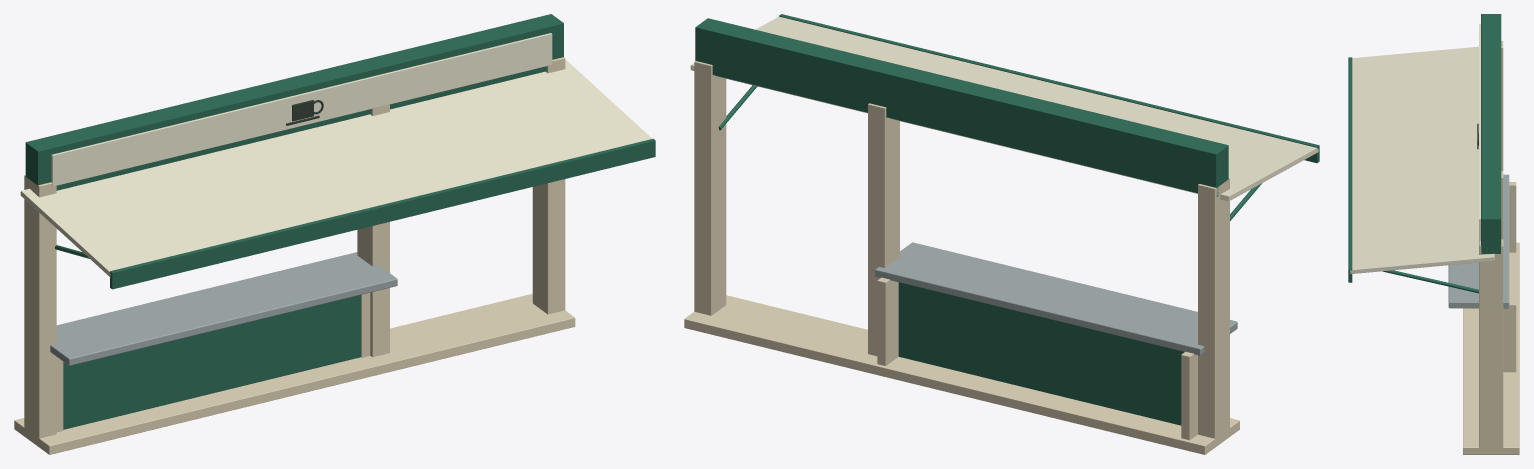
Rendered from hdb-coffee-shop-frontage.glb.
3 renders of one model, left to right at view 1: azimuth 30°, elevation 25°; view 2: azimuth 150°, elevation 25°; view 3: azimuth 270°, elevation 25°, orthographic. The views are drawn at different scales.
Visible parts, largest first — view 1: AWNING_Editable, COUNTER_Front, FASCIA_ReplaceableFace, FLOOR_Sill, COUNTER_Top, FASCIA_Support, AWNING_Valance, PIER_-2.9, PIER_2.9, PIER_0.9, COUNTER_Side_0.75; view 2: FASCIA_Support, COUNTER_Front, FLOOR_Sill, COUNTER_Top, AWNING_Editable, PIER_2.9, PIER_-2.9, PIER_0.9, AWNING_Valance, COUNTER_Side_0.75, COUNTER_Side_-2.75; view 3: AWNING_Editable, FASCIA_Support, PIER_2.9, FLOOR_Sill, COUNTER_Top, AWNING_Valance, COUNTER_Side_0.75, COUNTER_Side_-2.75, FASCIA_ReplaceableFace, AWNING_Bracket_2.8, PIER_-2.9, PIER_0.9.
Boxes of the visible parts, left/top/right/bottom form: AWNING_Editable: left=20, top=59, right=652, bottom=277; COUNTER_Front: left=63, top=295, right=360, bottom=429; FASCIA_ReplaceableFace: left=51, top=33, right=552, bottom=186; FLOOR_Sill: left=14, top=294, right=575, bottom=454; COUNTER_Top: left=50, top=252, right=397, bottom=365; FASCIA_Support: left=25, top=14, right=563, bottom=190; AWNING_Valance: left=110, top=138, right=655, bottom=289; PIER_-2.9: left=24, top=175, right=56, bottom=442; PIER_2.9: left=532, top=57, right=565, bottom=314; PIER_0.9: left=357, top=104, right=389, bottom=357; COUNTER_Side_0.75: left=361, top=292, right=370, bottom=357; FASCIA_Support: left=695, top=18, right=1228, bottom=196; COUNTER_Front: left=898, top=282, right=1184, bottom=425; FLOOR_Sill: left=684, top=295, right=1239, bottom=454; COUNTER_Top: left=875, top=242, right=1237, bottom=355; AWNING_Editable: left=690, top=16, right=1318, bottom=201; PIER_2.9: left=694, top=61, right=726, bottom=315; PIER_-2.9: left=1198, top=178, right=1229, bottom=442; PIER_0.9: left=868, top=103, right=899, bottom=356; AWNING_Valance: left=779, top=14, right=1319, bottom=163; COUNTER_Side_0.75: left=877, top=277, right=898, bottom=365; COUNTER_Side_-2.75: left=1181, top=351, right=1197, bottom=440; AWNING_Editable: left=1350, top=46, right=1494, bottom=273; FASCIA_Support: left=1481, top=14, right=1501, bottom=253; PIER_2.9: left=1479, top=239, right=1503, bottom=451; FLOOR_Sill: left=1463, top=242, right=1519, bottom=454; COUNTER_Top: left=1448, top=174, right=1509, bottom=308; AWNING_Valance: left=1348, top=57, right=1352, bottom=282; COUNTER_Side_0.75: left=1503, top=301, right=1516, bottom=372; COUNTER_Side_-2.75: left=1509, top=182, right=1516, bottom=252; FASCIA_ReplaceableFace: left=1479, top=24, right=1480, bottom=240; AWNING_Bracket_2.8: left=1382, top=270, right=1478, bottom=293; PIER_-2.9: left=1501, top=41, right=1503, bottom=170; PIER_0.9: left=1501, top=171, right=1503, bottom=239.
Bounding box in the file's own units: 6.2 × 3.22 × 2.12.
